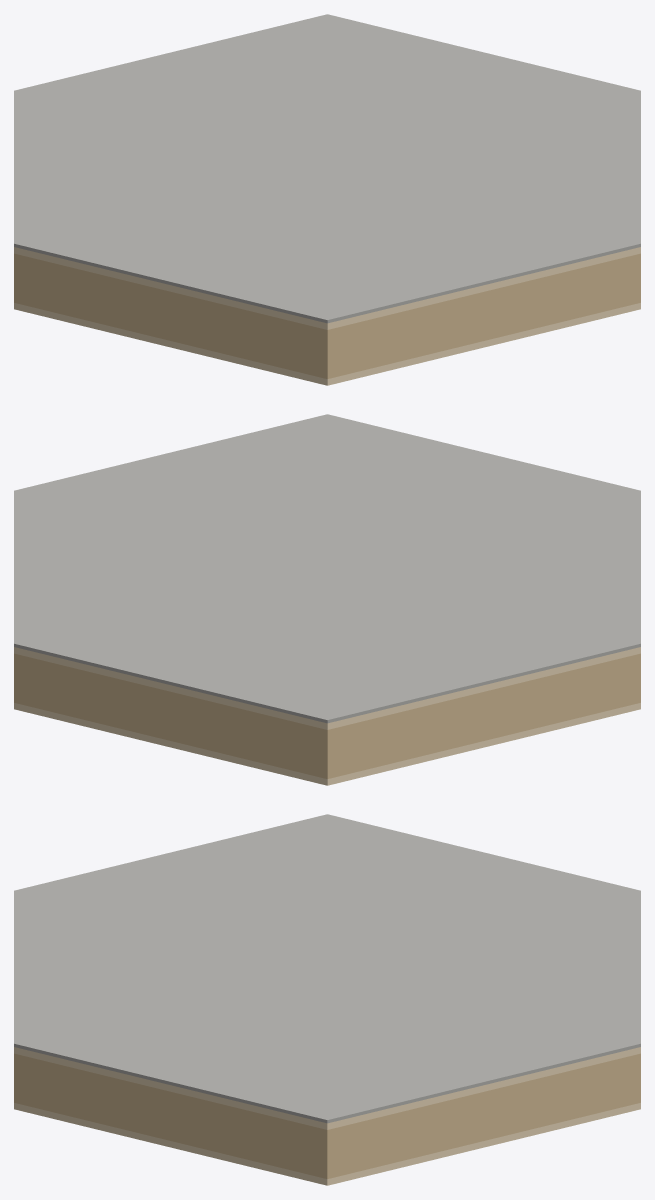
File: terrain.glb
The picture shows the model from 3 angles, top to bottom: view 1: azimuth 30°, elevation 25°; view 2: azimuth 150°, elevation 25°; view 3: azimuth 270°, elevation 25°; orthographic projection.
Parts seen in each view (by area): view 1: Tile_Stone_Geometry; view 2: Tile_Stone_Geometry; view 3: Tile_Stone_Geometry.
Part boxes in pixels (box(x1,y1,x2,y2)): Tile_Stone_Geometry: box(14, 14, 640, 385); Tile_Stone_Geometry: box(14, 414, 640, 785); Tile_Stone_Geometry: box(14, 814, 640, 1185).
Size of the model in its own units: 2 by 0.2 by 1.73.
